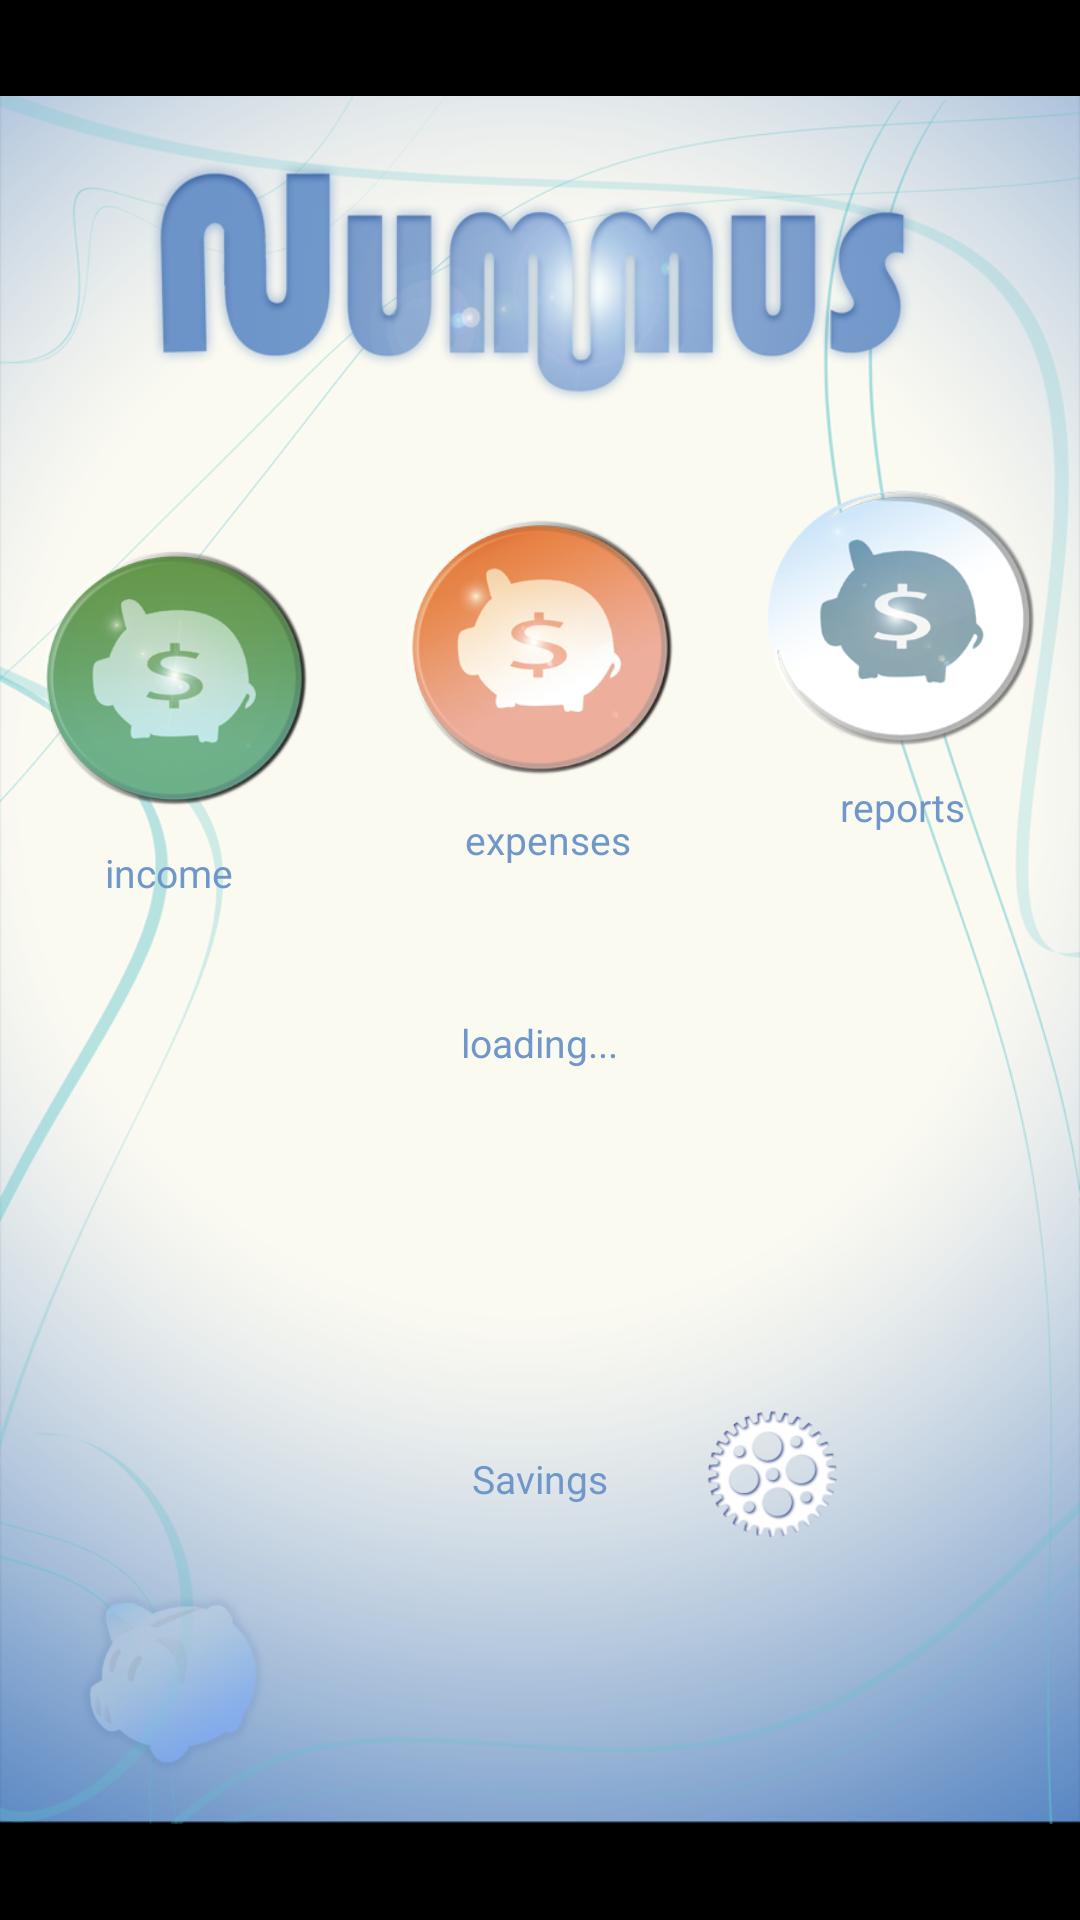

Icon click points for this 1080px×1920px phone screenshot, format (x=x, y=y):
bluepigbutton: (x=901, y=615)
greenpigbutton: (x=176, y=681)
preferencesbutton: (x=775, y=1464)
